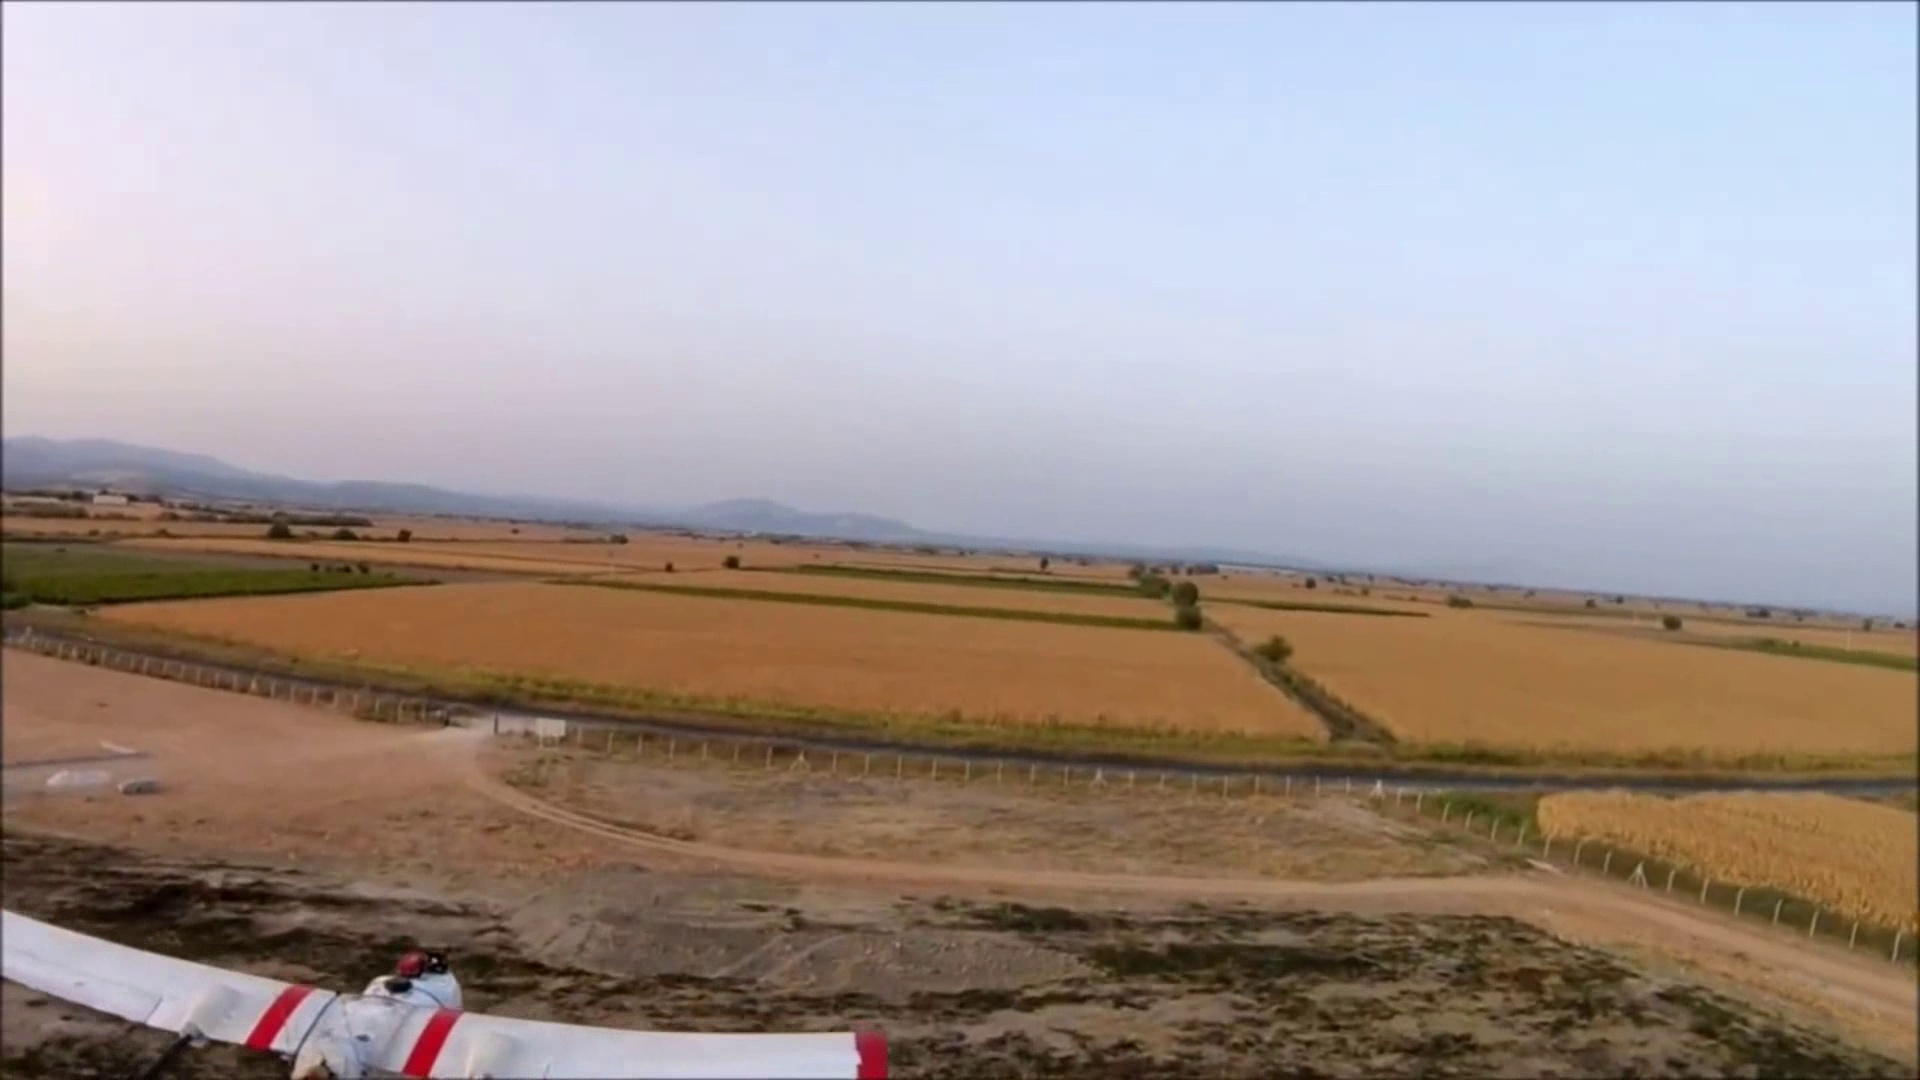airplane: (3, 909, 905, 1071)
